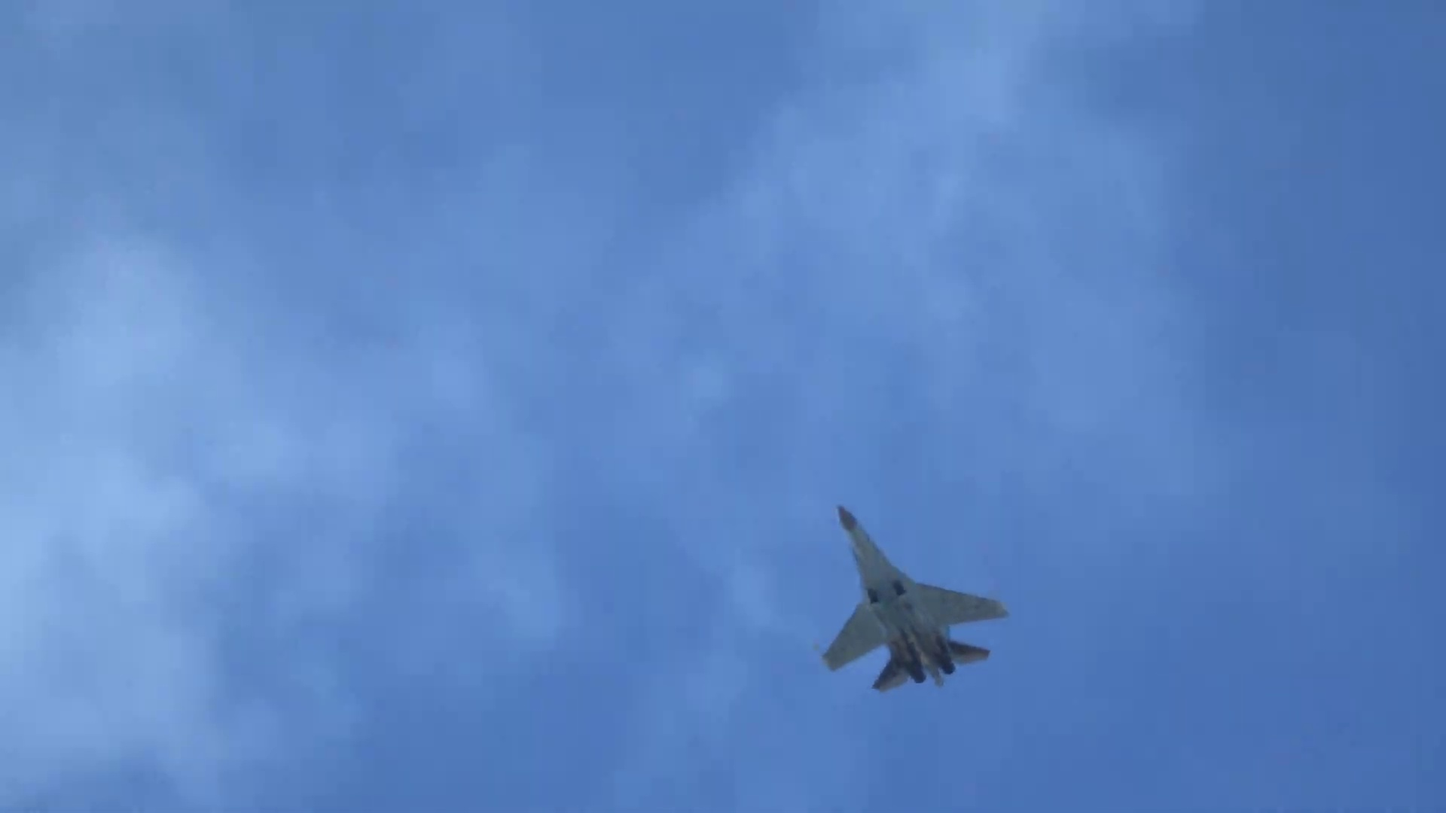Su35: (822, 505, 1010, 694)
